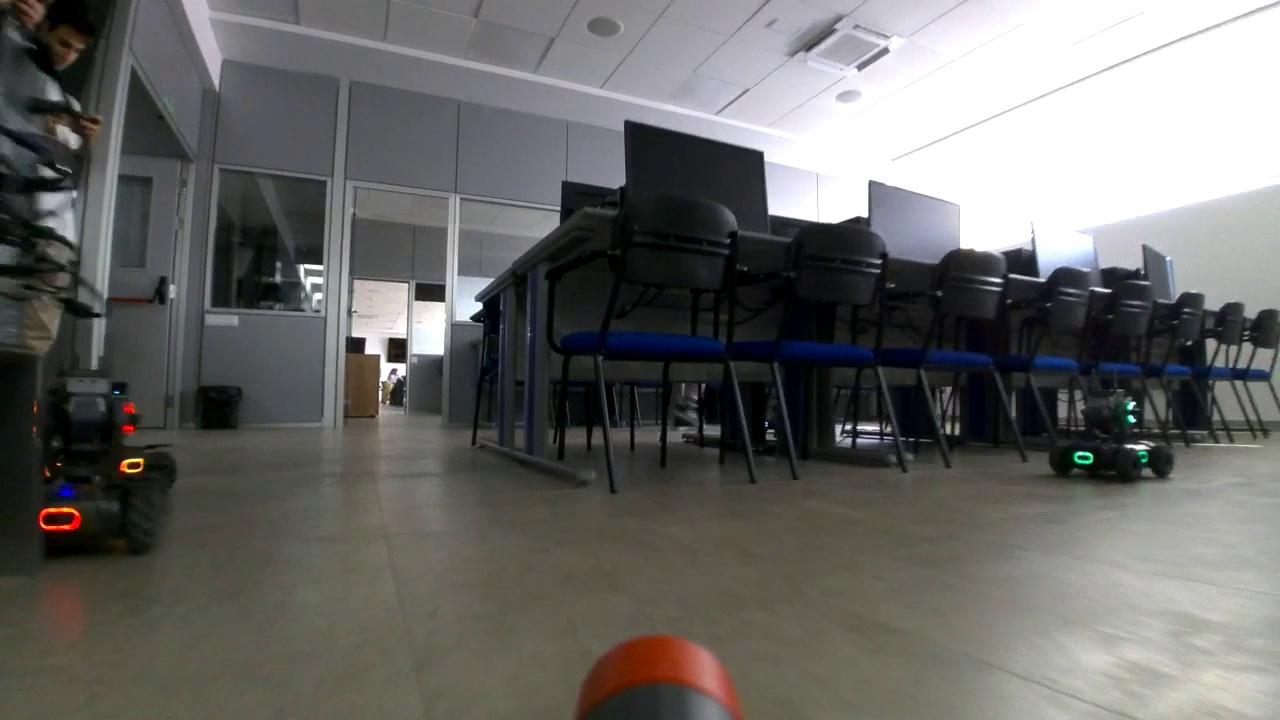robot: (25, 320, 177, 562), (1048, 368, 1174, 484)
